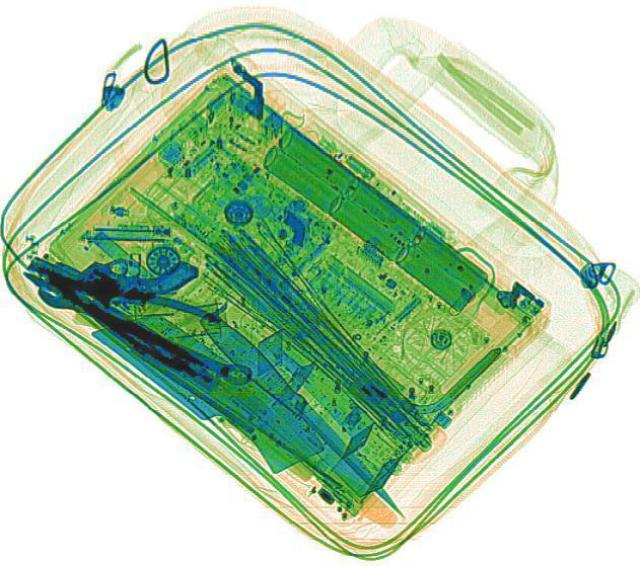Gun: (22, 209, 200, 325)
Knife: (190, 303, 420, 528)
Pliers: (24, 256, 226, 370)
Wrench: (31, 270, 257, 392)
